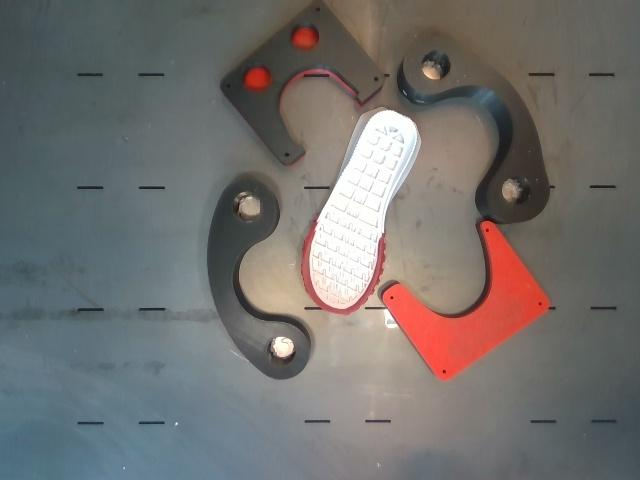shoes: (305, 111, 415, 313)
